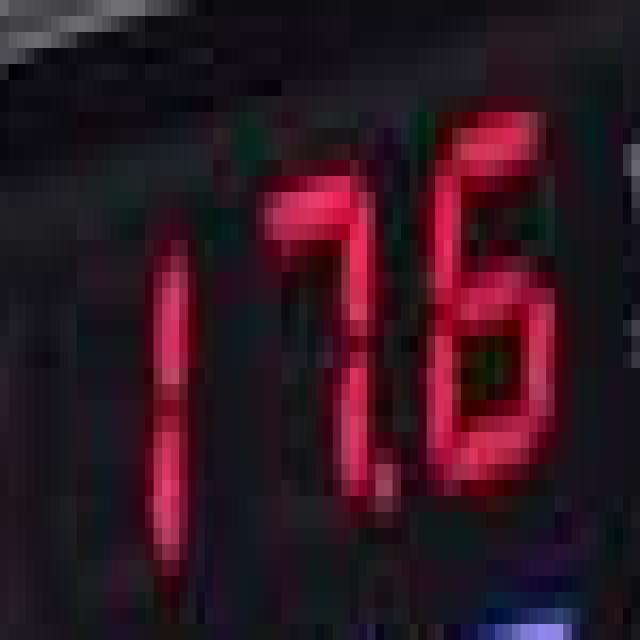1: (110, 158, 230, 614)
6: (422, 87, 582, 515)
7: (251, 140, 408, 564)
screen: (16, 72, 600, 626)
